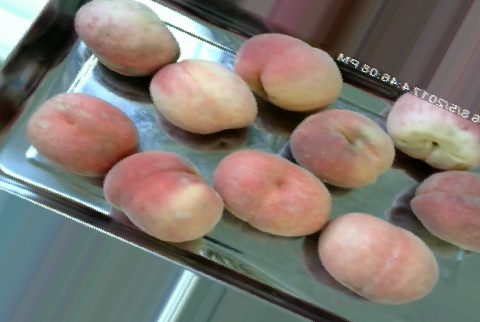Peach: (317, 212, 438, 304), (103, 151, 223, 241), (213, 147, 332, 236), (25, 93, 140, 174), (236, 31, 341, 113), (291, 105, 392, 189), (72, 1, 179, 75), (150, 58, 256, 131), (388, 90, 477, 171), (404, 171, 480, 253)
